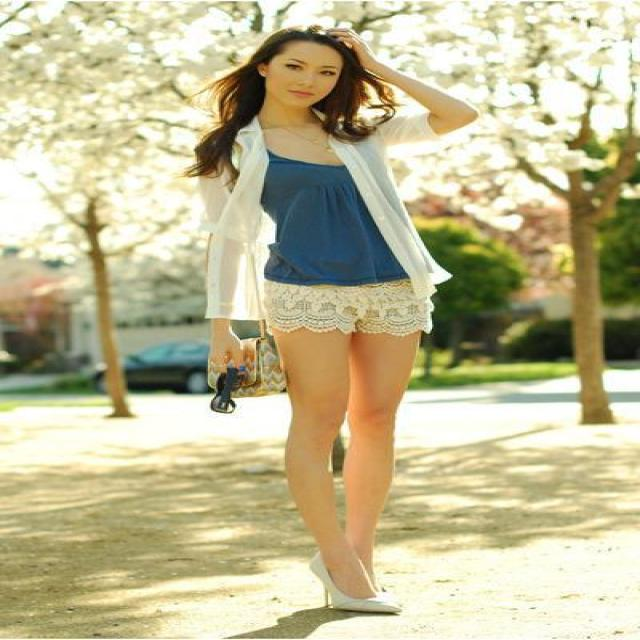bag: (250, 360, 298, 396)
jacket: (190, 115, 452, 319)
shirt: (261, 149, 408, 286)
shoe: (328, 579, 400, 616)
shorts: (252, 277, 433, 336)
